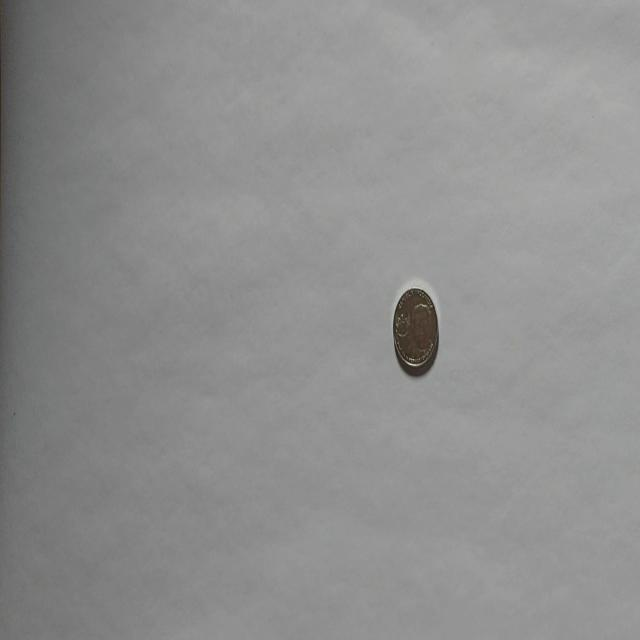seratus rupiah: (391, 285, 439, 375)
